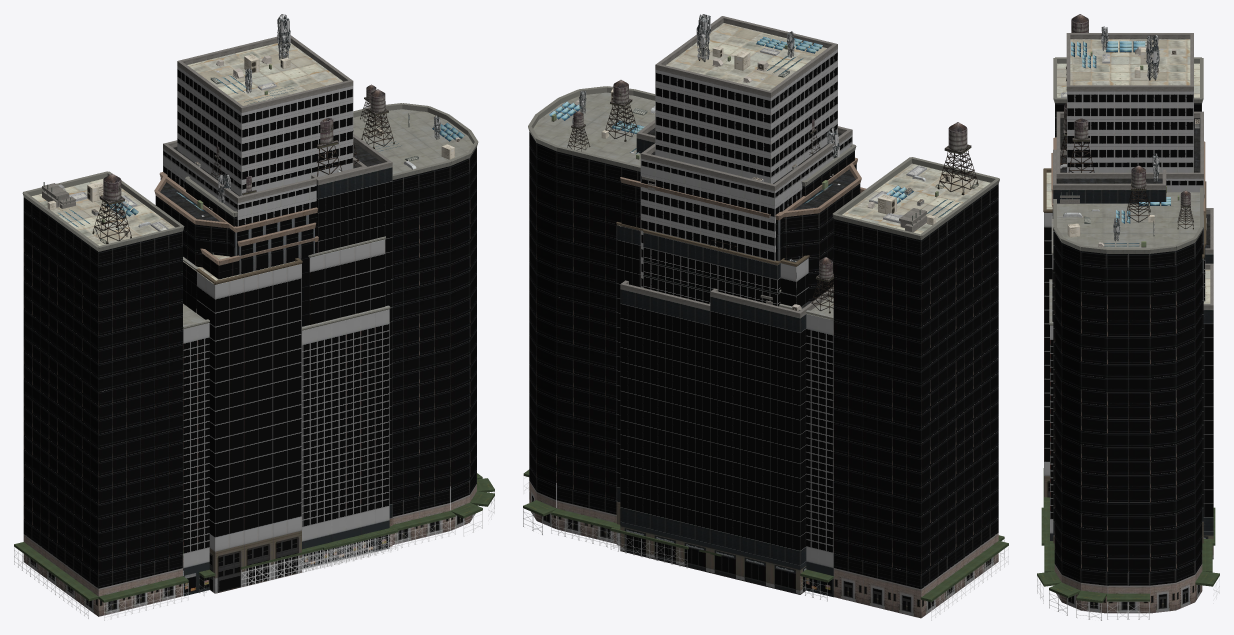
The model's file is bld_pc5.glb.
3 renders of one model, left to right at view 1: azimuth 30°, elevation 25°; view 2: azimuth 150°, elevation 25°; view 3: azimuth 270°, elevation 25°, orthographic. The views are drawn at different scales.
Visible parts, largest first — view 1: pc5_10, pc5_12, pc5_02, pc5_09, pc5_01, pc5_06, pc5_05, pc5_08, pc5_04, pc5_13, pc5_15; view 2: pc5_10, pc5_12, pc5_02, pc5_13, pc5_05, pc5_01, pc5_06, pc5_04; view 3: pc5_10, pc5_02, pc5_12, pc5_01, pc5_09, pc5_13.
Part boxes in pixels (left/top/right/bottom): pc5_10: left=14, top=84, right=494, bottom=620; pc5_12: left=183, top=257, right=312, bottom=595; pc5_02: left=163, top=14, right=372, bottom=570; pc5_09: left=183, top=305, right=399, bottom=592; pc5_01: left=200, top=134, right=398, bottom=590; pc5_06: left=302, top=236, right=385, bottom=569; pc5_05: left=154, top=173, right=391, bottom=568; pc5_08: left=237, top=222, right=317, bottom=326; pc5_04: left=159, top=172, right=370, bottom=582; pc5_13: left=185, top=118, right=341, bottom=256; pc5_15: left=241, top=535, right=370, bottom=587; pc5_10: left=523, top=80, right=1008, bottom=620; pc5_12: left=620, top=256, right=833, bottom=594; pc5_02: left=640, top=14, right=852, bottom=287; pc5_13: left=642, top=144, right=856, bottom=306; pc5_05: left=620, top=127, right=861, bottom=301; pc5_01: left=610, top=120, right=866, bottom=568; pc5_06: left=780, top=195, right=809, bottom=306; pc5_04: left=775, top=157, right=857, bottom=263; pc5_10: left=1037, top=14, right=1219, bottom=620; pc5_02: left=1056, top=26, right=1203, bottom=302; pc5_12: left=1043, top=168, right=1213, bottom=559; pc5_01: left=1041, top=149, right=1215, bottom=545; pc5_09: left=1049, top=279, right=1207, bottom=545; pc5_13: left=1060, top=103, right=1206, bottom=301.
Size of the model in its own units: 94.64 by 109 by 35.94.
Materials: 25 (21 with a texture image).
